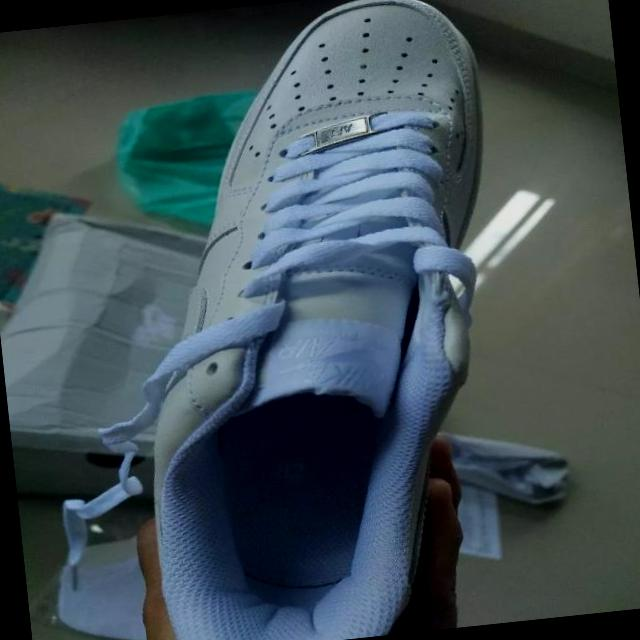nike_fake_airforce: (87, 0, 538, 640)
